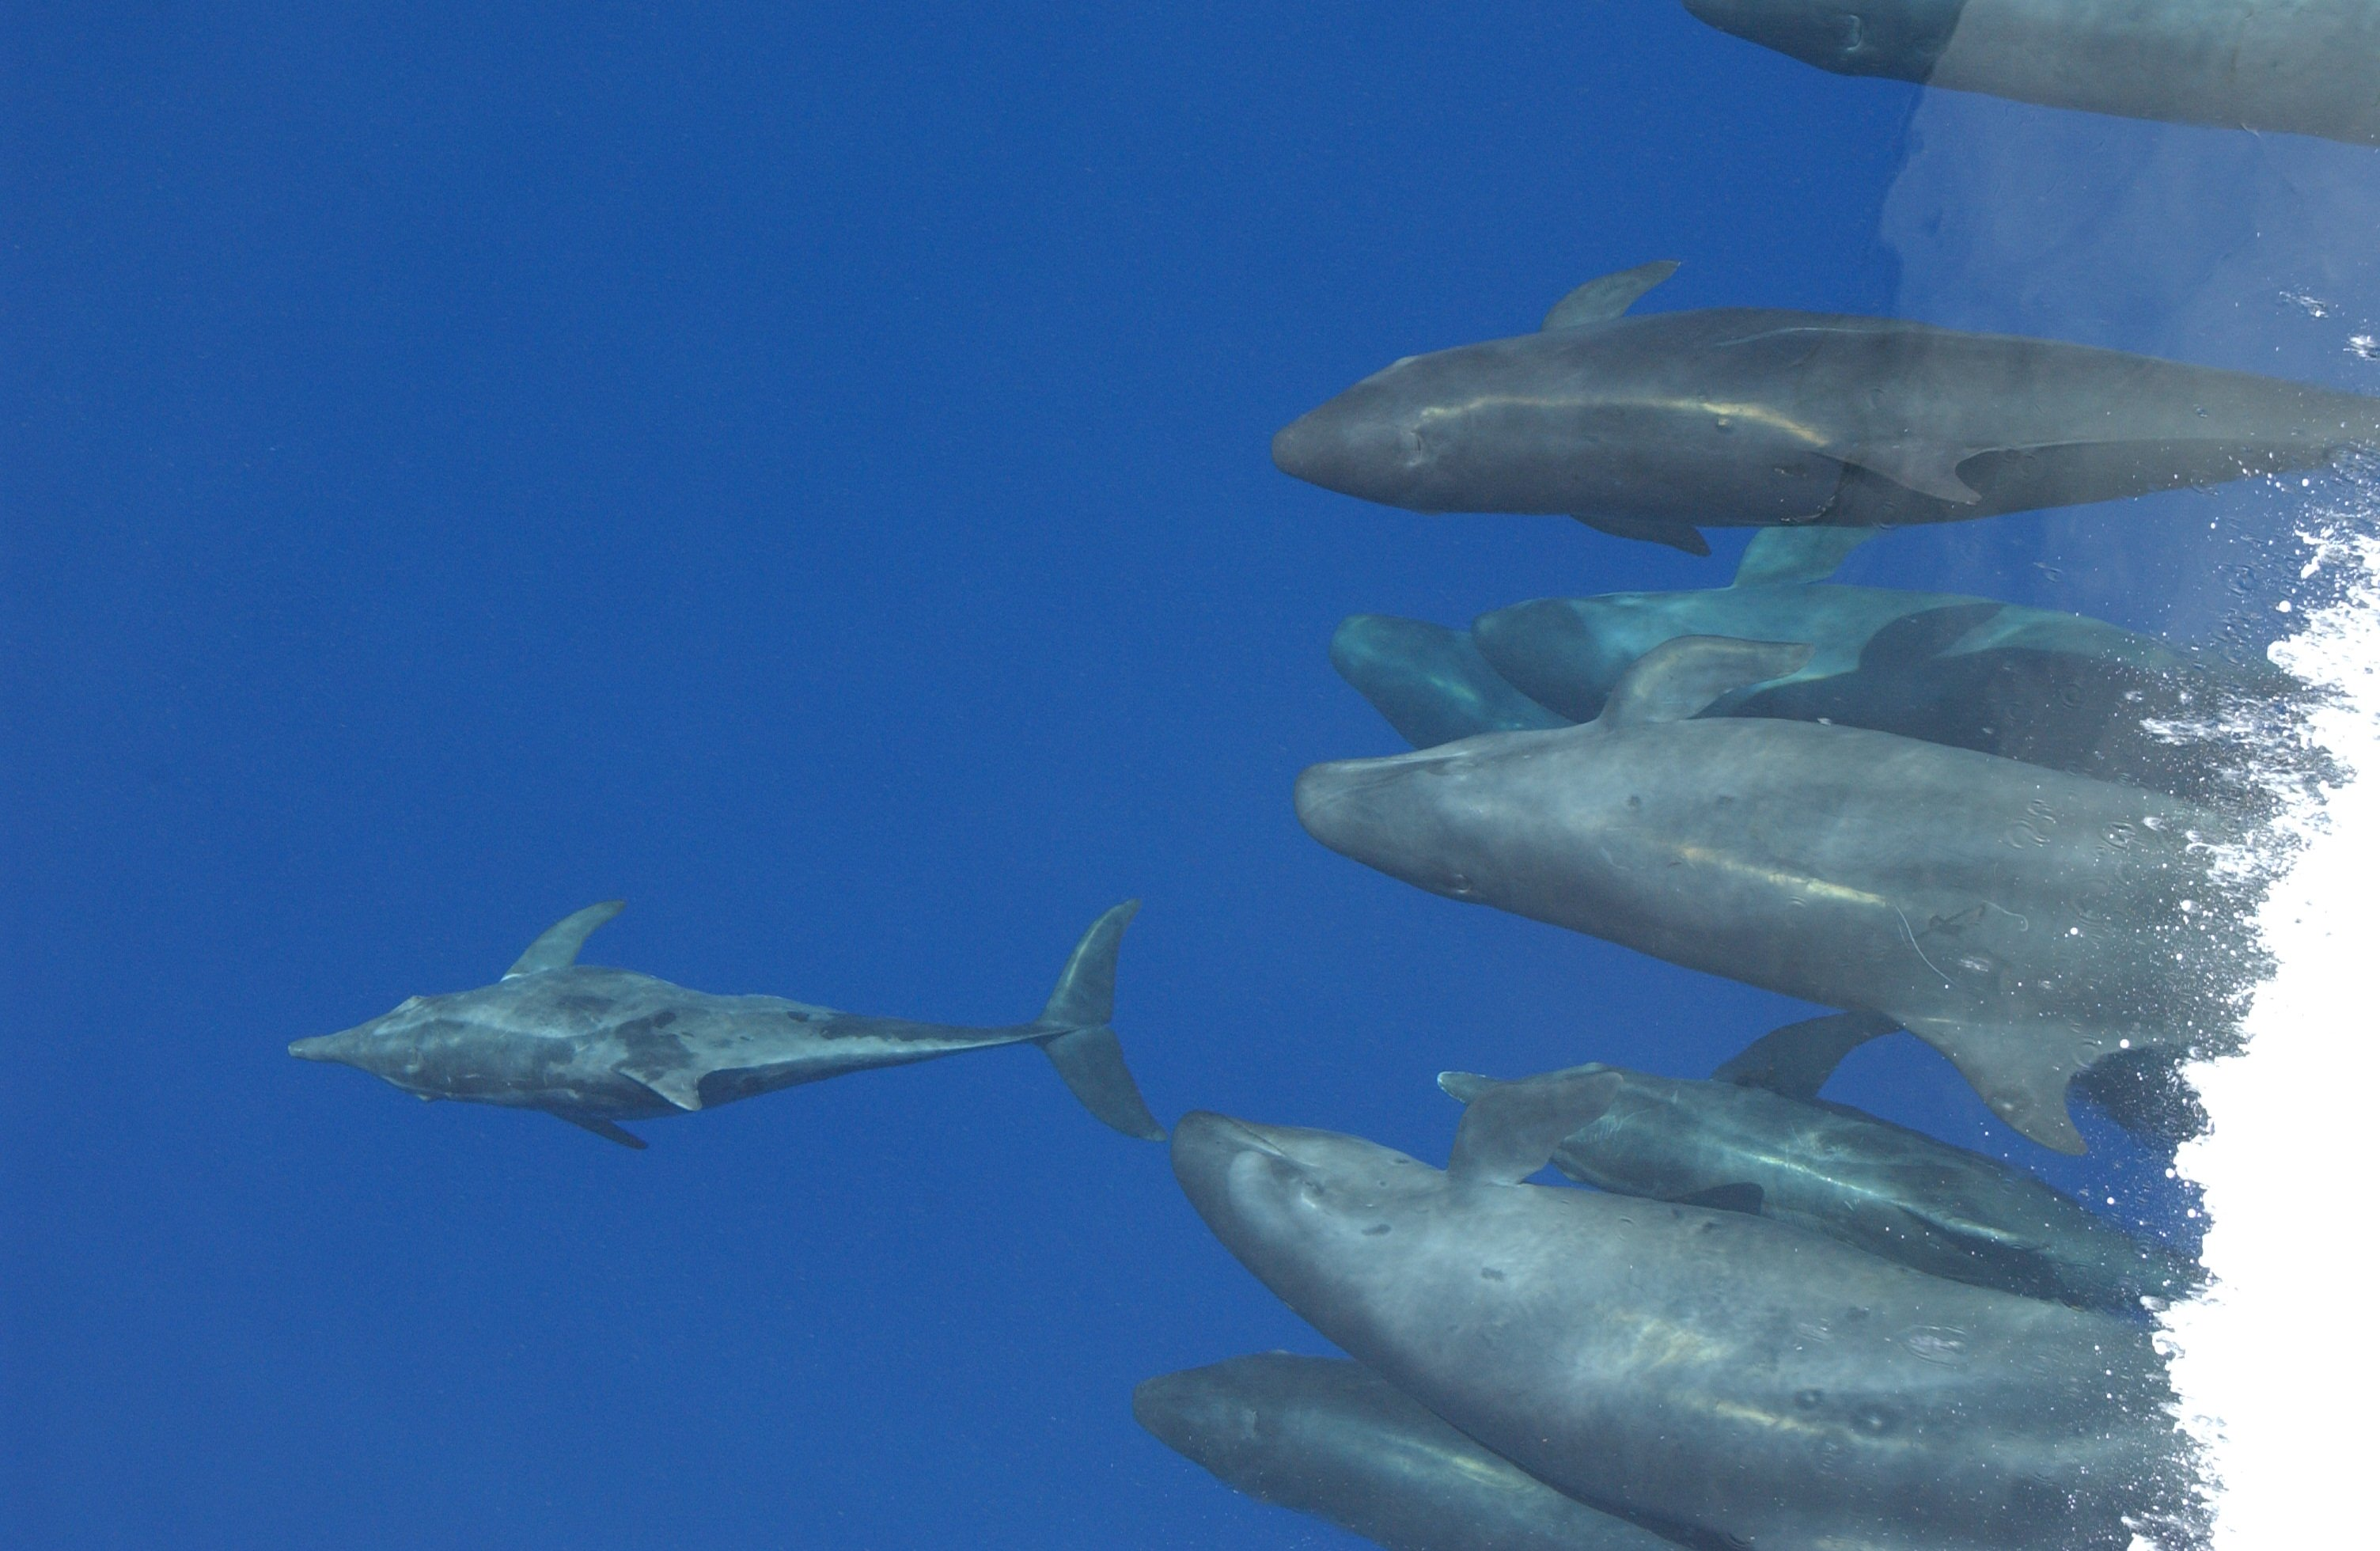dolphin: (1296, 638, 2227, 1138), (1155, 1110, 2163, 1535), (1272, 262, 2380, 562), (269, 883, 1166, 1150), (1440, 998, 2194, 1292)
